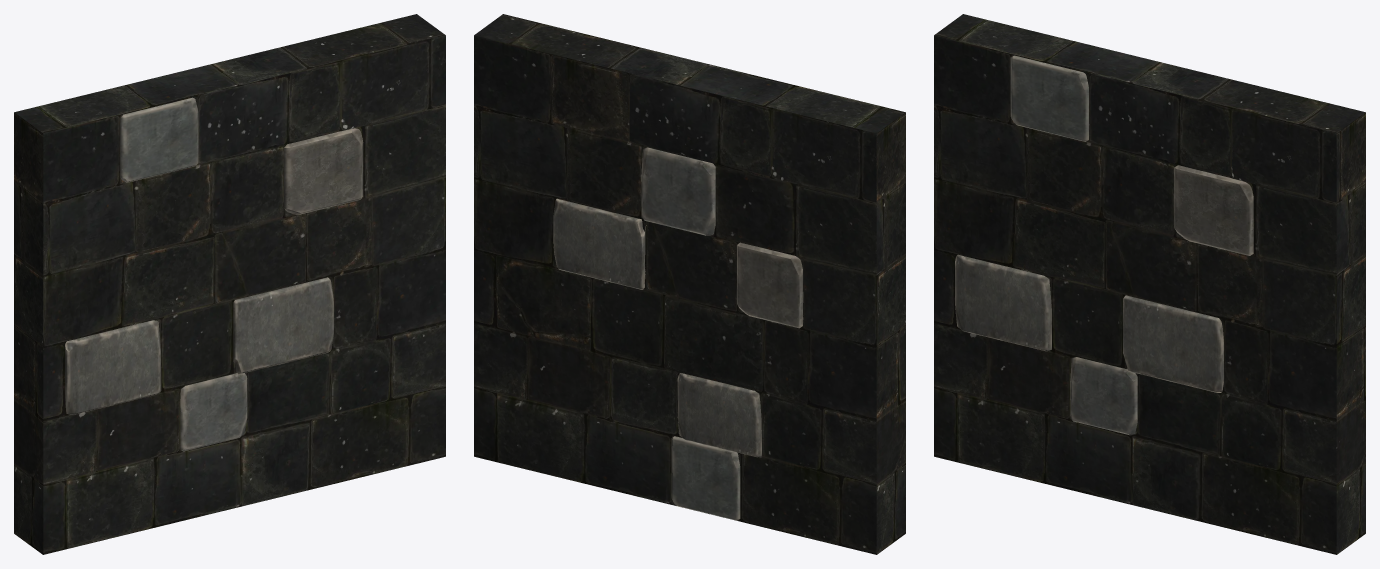
3 views of the same model, side by side, from view 1: azimuth 30°, elevation 25°; view 2: azimuth 150°, elevation 25°; view 3: azimuth 330°, elevation 25° (orthographic).
Visible parts, largest first — view 1: SM_DeathTemple_Wall_4x4_01_v1_LOD0; view 2: SM_DeathTemple_Wall_4x4_01_v1_LOD0; view 3: SM_DeathTemple_Wall_4x4_01_v1_LOD0.
Boxes of the visible parts, left/top/right/bottom form: SM_DeathTemple_Wall_4x4_01_v1_LOD0: left=14, top=14, right=445, bottom=554; SM_DeathTemple_Wall_4x4_01_v1_LOD0: left=474, top=14, right=905, bottom=554; SM_DeathTemple_Wall_4x4_01_v1_LOD0: left=934, top=14, right=1365, bottom=554.
Bounding box in the file's own units: 4 × 4 × 0.5879.
2 materials, 2 textured.
